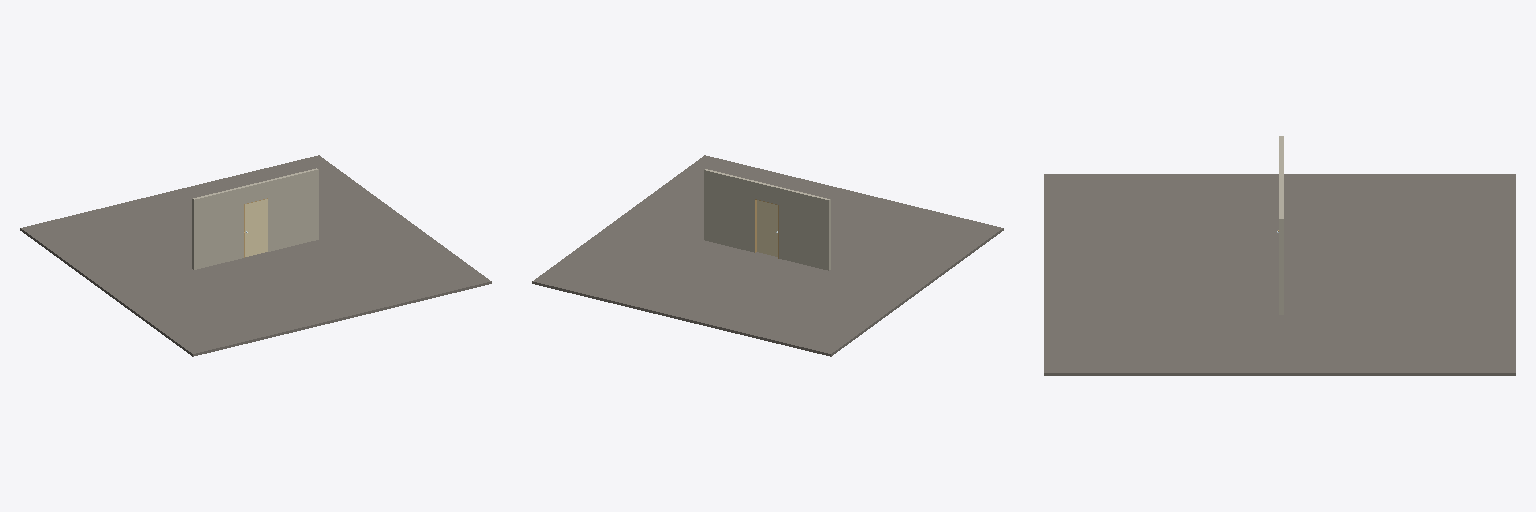
URDF robot description (db0195_swing_single_minimal):
<?xml version="1.0" ?>
<robot xmlns:doorbench="https://github.com/adamraudonis/DoorBench/schema/urdf-ext" name="db0195_swing_single_minimal">
  <link name="world_env">
    <visual name="floor_vis">
      <origin xyz="0 0 -0.05" rpy="0 0 0"/>
      <geometry>
        <box size="12 12 0.1"/>
      </geometry>
      <material name="mat_floor"/>
    </visual>
    <collision name="floor_col">
      <origin xyz="0 0 -0.05" rpy="0 0 0"/>
      <geometry>
        <box size="12 12 0.1"/>
      </geometry>
    </collision>
    <visual name="wall_left_vis">
      <origin xyz="-1.50475 0.033 1.35" rpy="0 0 0"/>
      <geometry>
        <box size="1.9905 0.115 2.7"/>
      </geometry>
      <material name="mat_wall"/>
    </visual>
    <collision name="wall_left_col">
      <origin xyz="-1.50475 0.033 1.35" rpy="0 0 0"/>
      <geometry>
        <box size="1.9905 0.115 2.7"/>
      </geometry>
    </collision>
    <visual name="wall_right_vis">
      <origin xyz="1.48975 0.033 1.35" rpy="0 0 0"/>
      <geometry>
        <box size="2.0205 0.115 2.7"/>
      </geometry>
      <material name="mat_wall"/>
    </visual>
    <collision name="wall_right_col">
      <origin xyz="1.48975 0.033 1.35" rpy="0 0 0"/>
      <geometry>
        <box size="2.0205 0.115 2.7"/>
      </geometry>
    </collision>
    <visual name="wall_header_vis">
      <origin xyz="-0.015 0.033 2.397" rpy="0 0 0"/>
      <geometry>
        <box size="0.989 0.115 0.606"/>
      </geometry>
      <material name="mat_wall"/>
    </visual>
    <collision name="wall_header_col">
      <origin xyz="-0.015 0.033 2.397" rpy="0 0 0"/>
      <geometry>
        <box size="0.989 0.115 0.606"/>
      </geometry>
    </collision>
    <visual name="jamb_hinge_vis">
      <origin xyz="0.47 0.033 1.0225" rpy="0 0 0"/>
      <geometry>
        <box size="0.019 0.115 2.045"/>
      </geometry>
      <material name="mat_frame"/>
    </visual>
    <collision name="jamb_hinge_col">
      <origin xyz="0.47 0.033 1.0225" rpy="0 0 0"/>
      <geometry>
        <box size="0.019 0.115 2.045"/>
      </geometry>
    </collision>
    <visual name="strike_965_wall_n_vis">
      <origin xyz="-0.485 0.049175 0.965" rpy="0 0 0"/>
      <geometry>
        <box size="0.049 0.08265 0.0334"/>
      </geometry>
      <material name="mat_frame"/>
    </visual>
    <collision name="strike_965_wall_n_col">
      <origin xyz="-0.485 0.049175 0.965" rpy="0 0 0"/>
      <geometry>
        <box size="0.049 0.08265 0.0334"/>
      </geometry>
    </collision>
    <visual name="strike_965_wall_p_vis">
      <origin xyz="-0.485 -0.01585 0.965" rpy="0 0 0"/>
      <geometry>
        <box size="0.049 0.016 0.0334"/>
      </geometry>
      <material name="mat_frame"/>
    </visual>
    <collision name="strike_965_wall_p_col">
      <origin xyz="-0.485 -0.01585 0.965" rpy="0 0 0"/>
      <geometry>
        <box size="0.049 0.016 0.0334"/>
      </geometry>
    </collision>
    <visual name="strike_965_ramp_vis">
      <origin xyz="-0.489636 -0.028673 0.965" rpy="0 0 -0.428384"/>
      <geometry>
        <box size="0.049 0.03298 0.0334"/>
      </geometry>
      <material name="mat_frame"/>
    </visual>
    <collision name="strike_965_ramp_col">
      <origin xyz="-0.489636 -0.028673 0.965" rpy="0 0 -0.428384"/>
      <geometry>
        <box size="0.049 0.03298 0.0334"/>
      </geometry>
    </collision>
    <visual name="strike_965_back_vis">
      <origin xyz="-0.49335 0 0.965" rpy="0 0 0"/>
      <geometry>
        <box size="0.0323 0.0157 0.0334"/>
      </geometry>
      <material name="mat_frame"/>
    </visual>
    <collision name="strike_965_back_col">
      <origin xyz="-0.49335 0 0.965" rpy="0 0 0"/>
      <geometry>
        <box size="0.0323 0.0157 0.0334"/>
      </geometry>
    </collision>
    <visual name="jamb_strike_0_vis">
      <origin xyz="-0.485 0.033 0.47415" rpy="0 0 0"/>
      <geometry>
        <box size="0.049 0.115 0.9483"/>
      </geometry>
      <material name="mat_frame"/>
    </visual>
    <collision name="jamb_strike_0_col">
      <origin xyz="-0.485 0.033 0.47415" rpy="0 0 0"/>
      <geometry>
        <box size="0.049 0.115 0.9483"/>
      </geometry>
    </collision>
    <visual name="jamb_strike_1_vis">
      <origin xyz="-0.485 0.033 1.51335" rpy="0 0 0"/>
      <geometry>
        <box size="0.049 0.115 1.0633"/>
      </geometry>
      <material name="mat_frame"/>
    </visual>
    <collision name="jamb_strike_1_col">
      <origin xyz="-0.485 0.033 1.51335" rpy="0 0 0"/>
      <geometry>
        <box size="0.049 0.115 1.0633"/>
      </geometry>
    </collision>
    <visual name="jamb_head_vis">
      <origin xyz="-0.015 0.033 2.0545" rpy="0 0 0"/>
      <geometry>
        <box size="0.989 0.115 0.019"/>
      </geometry>
      <material name="mat_frame"/>
    </visual>
    <collision name="jamb_head_col">
      <origin xyz="-0.015 0.033 2.0545" rpy="0 0 0"/>
      <geometry>
        <box size="0.989 0.115 0.019"/>
      </geometry>
    </collision>
    <visual name="head_stud_vis">
      <origin xyz="-0.015 0.033 2.079" rpy="0 0 0"/>
      <geometry>
        <box size="0.989 0.115 0.03"/>
      </geometry>
      <material name="mat_wall"/>
    </visual>
    <collision name="head_stud_col">
      <origin xyz="-0.015 0.033 2.079" rpy="0 0 0"/>
      <geometry>
        <box size="0.989 0.115 0.03"/>
      </geometry>
    </collision>
    <visual name="stop_hinge_vis">
      <origin xyz="0.455 0.034 1.0225" rpy="0 0 0"/>
      <geometry>
        <box size="0.011 0.032 2.045"/>
      </geometry>
      <material name="mat_frame"/>
    </visual>
    <collision name="stop_hinge_col">
      <origin xyz="0.455 0.034 1.0225" rpy="0 0 0"/>
      <geometry>
        <box size="0.011 0.032 2.045"/>
      </geometry>
    </collision>
    <visual name="stop_strike_vis">
      <origin xyz="-0.455 0.034 1.0225" rpy="0 0 0"/>
      <geometry>
        <box size="0.011 0.032 2.045"/>
      </geometry>
      <material name="mat_frame"/>
    </visual>
    <collision name="stop_strike_col">
      <origin xyz="-0.455 0.034 1.0225" rpy="0 0 0"/>
      <geometry>
        <box size="0.011 0.032 2.045"/>
      </geometry>
    </collision>
    <visual name="stop_head_vis">
      <origin xyz="0 0.034 2.0395" rpy="0 0 0"/>
      <geometry>
        <box size="0.921 0.032 0.011"/>
      </geometry>
      <material name="mat_frame"/>
    </visual>
    <collision name="stop_head_col">
      <origin xyz="0 0.034 2.0395" rpy="0 0 0"/>
      <geometry>
        <box size="0.921 0.032 0.011"/>
      </geometry>
    </collision>
  </link>
  <link name="leaf">
    <inertial>
      <origin xyz="-0.457 0.0245 1.025" rpy="0 0 0"/>
      <mass value="15.453789"/>
      <inertia ixx="5.318999768" ixy="0" ixz="0" iyy="6.393258331" iyz="0" izz="1.077413712"/>
    </inertial>
    <visual name="leaf_slab_vis">
      <origin xyz="-0.457 0.0245 1.025" rpy="0 0 0"/>
      <geometry>
        <box size="0.914 0.035 2.032"/>
      </geometry>
      <material name="mat_leaf"/>
    </visual>
    <collision name="leaf_slab_col">
      <origin xyz="-0.457 0.0245 1.025" rpy="0 0 0"/>
      <geometry>
        <box size="0.914 0.035 2.032"/>
      </geometry>
    </collision>
  </link>
  <link name="leaf_handle">
    <inertial>
      <origin xyz="0 0 0" rpy="0 0 0"/>
      <mass value="0.91853"/>
      <inertia ixx="0.002983372" ixy="0" ixz="0" iyy="0.000214357" iyz="0" izz="0.002983372"/>
    </inertial>
    <visual name="leaf_handle_knob_n_vis">
      <origin xyz="0 -0.0175 0" rpy="-1.570796 0 3.141593"/>
      <geometry>
        <mesh filename="../../hardware/knob_98a7916ed0.obj"/>
      </geometry>
      <material name="mat_op_glass_clear"/>
    </visual>
    <visual name="leaf_handle_knob_col_n_vis">
      <origin xyz="0 -0.0625 0" rpy="0 0 0"/>
      <geometry>
        <sphere radius="0.0234"/>
      </geometry>
      <material name="mat_op_glass_clear"/>
    </visual>
    <collision name="leaf_handle_knob_col_n_col">
      <origin xyz="0 -0.0625 0" rpy="0 0 0"/>
      <geometry>
        <sphere radius="0.0234"/>
      </geometry>
    </collision>
    <collision name="leaf_handle_knob_neck_n_col">
      <origin xyz="0 -0.0295 0" rpy="-1.570796 0 0"/>
      <geometry>
        <cylinder radius="0.011" length="0.024"/>
      </geometry>
    </collision>
    <visual name="leaf_handle_knob_p_vis">
      <origin xyz="0 0.0175 0" rpy="1.570796 0 3.141593"/>
      <geometry>
        <mesh filename="../../hardware/knob_98a7916ed0.obj"/>
      </geometry>
      <material name="mat_op_glass_clear"/>
    </visual>
    <visual name="leaf_handle_knob_col_p_vis">
      <origin xyz="0 0.0625 0" rpy="0 0 0"/>
      <geometry>
        <sphere radius="0.0234"/>
      </geometry>
      <material name="mat_op_glass_clear"/>
    </visual>
    <collision name="leaf_handle_knob_col_p_col">
      <origin xyz="0 0.0625 0" rpy="0 0 0"/>
      <geometry>
        <sphere radius="0.0234"/>
      </geometry>
    </collision>
    <collision name="leaf_handle_knob_neck_p_col">
      <origin xyz="0 0.0295 0" rpy="-1.570796 0 0"/>
      <geometry>
        <cylinder radius="0.011" length="0.024"/>
      </geometry>
    </collision>
  </link>
  <link name="leaf_latch_bolt">
    <inertial>
      <origin xyz="0.00865 0 0" rpy="0 0 0"/>
      <mass value="0.041419"/>
      <inertia ixx="0.000000798" ixy="0" ixz="0" iyy="0.000005598" iyz="0" izz="0.000005598"/>
    </inertial>
    <visual name="leaf_latch_bolt_capsule_vis">
      <origin xyz="0.00865 0 0" rpy="0 -1.570796 0"/>
      <geometry>
        <cylinder radius="0.00635" length="0.03"/>
      </geometry>
      <material name="mat_bolt"/>
    </visual>
    <collision name="leaf_latch_bolt_capsule_col">
      <origin xyz="0.00865 0 0" rpy="0 -1.570796 0"/>
      <geometry>
        <cylinder radius="0.00635" length="0.03"/>
      </geometry>
    </collision>
  </link>
  <joint name="leaf_hinge" type="revolute">
    <origin xyz="0.4575 -0.0245 0" rpy="0 0 0"/>
    <parent link="world_env"/>
    <child link="leaf"/>
    <axis xyz="0 0 1"/>
    <limit lower="0" upper="1.570796" effort="2000" velocity="10"/>
    <dynamics damping="0.30611" friction="1.311523"/>
    <doorbench:closer damping_closing="0" damping_opening="0" backcheck_angle="0" backcheck_damping="0"/>
  </joint>
  <joint name="leaf_handle_hinge" type="revolute">
    <origin xyz="-0.854 0.0245 0.965" rpy="0 0 0"/>
    <parent link="leaf"/>
    <child link="leaf_handle"/>
    <axis xyz="0 1 0"/>
    <limit lower="0" upper="0.8" effort="2000" velocity="10"/>
    <dynamics damping="0.119588" friction="0.032"/>
    <doorbench:spring stiffness="0.35" springref="-0.428571" note="tau = -stiffness*(q - springref); not native URDF"/>
  </joint>
  <joint name="leaf_latch_bolt_slide" type="prismatic">
    <origin xyz="-0.914 0.0245 0.965" rpy="0 0 0"/>
    <parent link="leaf"/>
    <child link="leaf_latch_bolt"/>
    <axis xyz="1 0 0"/>
    <limit lower="0" upper="0.0127" effort="5000" velocity="10"/>
    <dynamics damping="2" friction="0.3"/>
    <doorbench:spring stiffness="300" springref="-0.008333" note="tau = -stiffness*(q - springref); not native URDF"/>
    <mimic joint="leaf_handle_hinge" multiplier="0.019538" offset="0"/>
    <doorbench:coupling one_sided="true" note="MJCF uses a one-sided tendon (bolt may retract further, e.g. riding over the strike lip); mimic is bilateral"/>
  </joint>
  <material name="mat_bolt">
    <color rgba="0.85 0.66 0.3 1"/>
  </material>
  <material name="mat_floor">
    <color rgba="0.55 0.53 0.5 1"/>
  </material>
  <material name="mat_frame">
    <color rgba="0.82 0.7 0.5 1"/>
  </material>
  <material name="mat_leaf">
    <color rgba="0.93 0.88 0.74 1"/>
  </material>
  <material name="mat_op_glass_clear">
    <color rgba="0.85 0.92 0.95 0.25"/>
  </material>
  <material name="mat_wall">
    <color rgba="0.78 0.76 0.7 1"/>
  </material>
</robot>

--- Facts derived from the render (not from the file) ---
The picture shows the robot from 3 angles, left to right: view 1: azimuth 30°, elevation 25°; view 2: azimuth 150°, elevation 25°; view 3: azimuth 270°, elevation 25°; orthographic projection.
Robot: db0195_swing_single_minimal — 4 links, 3 joints (2 revolute, 1 prismatic); root link world_env; default pose: all joints at 0.
Links seen in each view (by area): view 1: world_env, leaf; view 2: world_env, leaf; view 3: world_env.
Link boxes in pixels (x1,y1,x2,y2): world_env: (20, 155, 491, 356); leaf: (245, 199, 267, 256); world_env: (532, 155, 1003, 356); leaf: (757, 200, 777, 256); world_env: (1044, 136, 1515, 375).
Size in the robot's own frame: 12 by 12 by 2.8 metres.
Meshes: 1 distinct files referenced, 2 mesh visuals loaded (1 OBJ).
